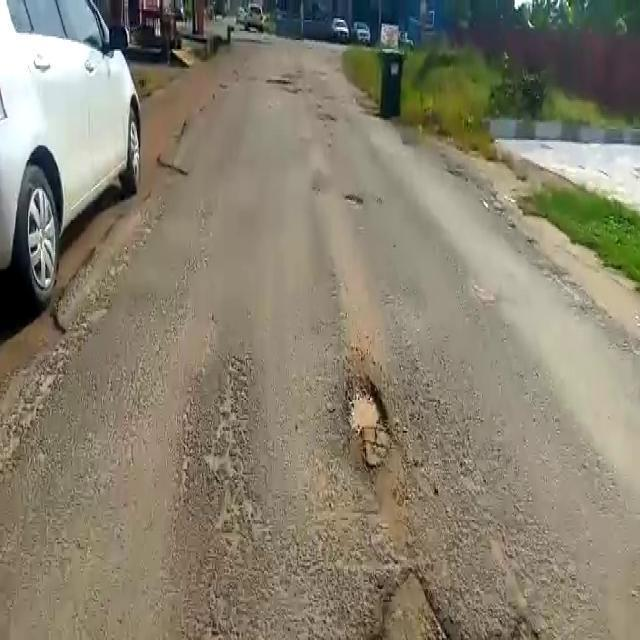pothole: (377, 563, 560, 639), (342, 378, 390, 467)
